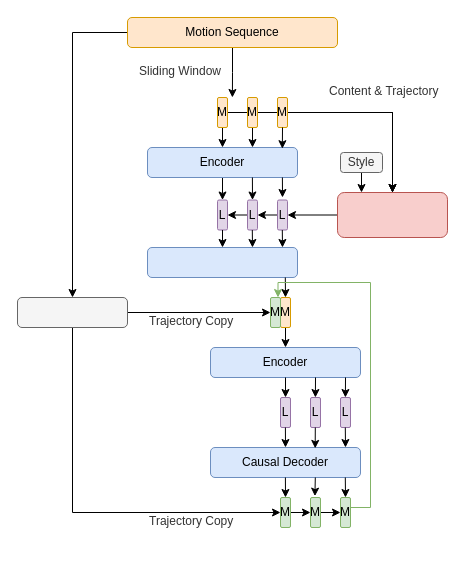
Image size: 465x565. Some labels were removed from this diagram. Each missing label, with the centre of its shape:
"Decoder" goes at point (222, 262).
"Denoiser" goes at point (392, 215).
"GT Trajectory" goes at point (72, 312).
